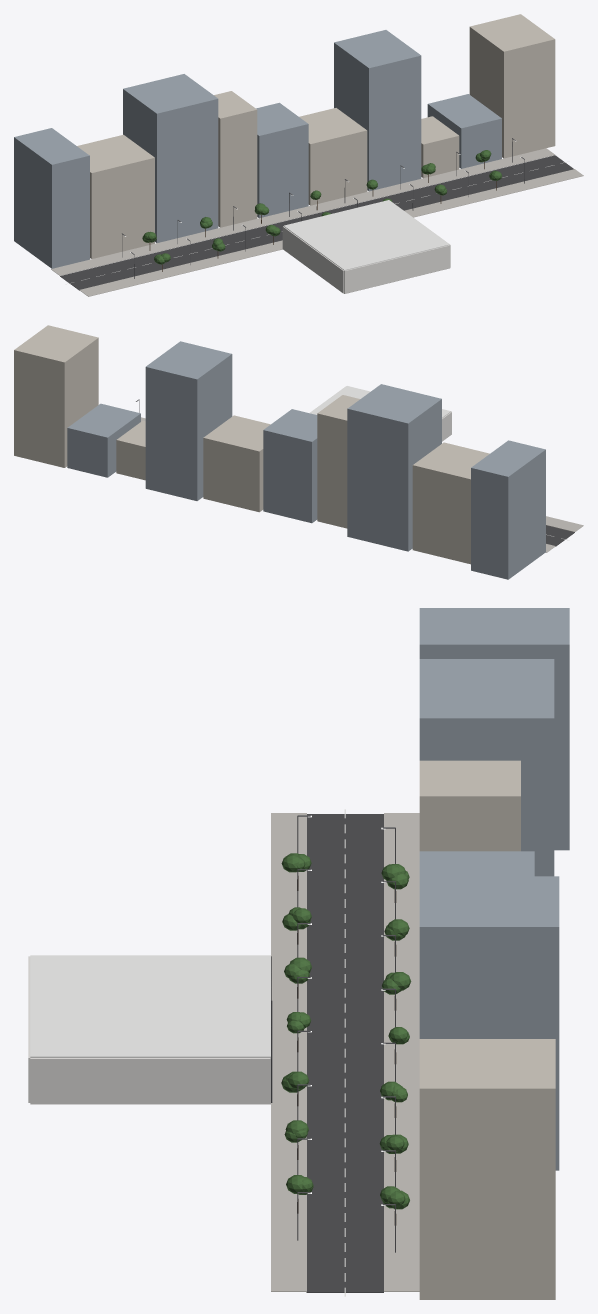
File: showroom-concessionaria.glb
3 renders of one model, top to bottom at view 1: azimuth 30°, elevation 25°; view 2: azimuth 150°, elevation 25°; view 3: azimuth 270°, elevation 25°, orthographic. The views are drawn at different scales.
Visible parts, largest first — view 1: SM_DNShowroom_Rua, SM_DNShowroom_Teto, SM_DNShowroom_Sala; view 2: SM_DNShowroom_Rua, SM_DNShowroom_Teto; view 3: SM_DNShowroom_Rua, SM_DNShowroom_Teto, SM_DNShowroom_Sala.
Part boxes in pixels (<box>): SM_DNShowroom_Rua: <box>14,14,583,296</box>; SM_DNShowroom_Teto: <box>284,200,449,270</box>; SM_DNShowroom_Sala: <box>282,201,450,293</box>; SM_DNShowroom_Rua: <box>14,325,583,579</box>; SM_DNShowroom_Teto: <box>310,386,450,418</box>; SM_DNShowroom_Rua: <box>271,608,569,1299</box>; SM_DNShowroom_Teto: <box>30,955,270,1057</box>; SM_DNShowroom_Sala: <box>28,956,272,1104</box>.
Bounding box in the file's own units: 164 × 40.22 × 76.52.
